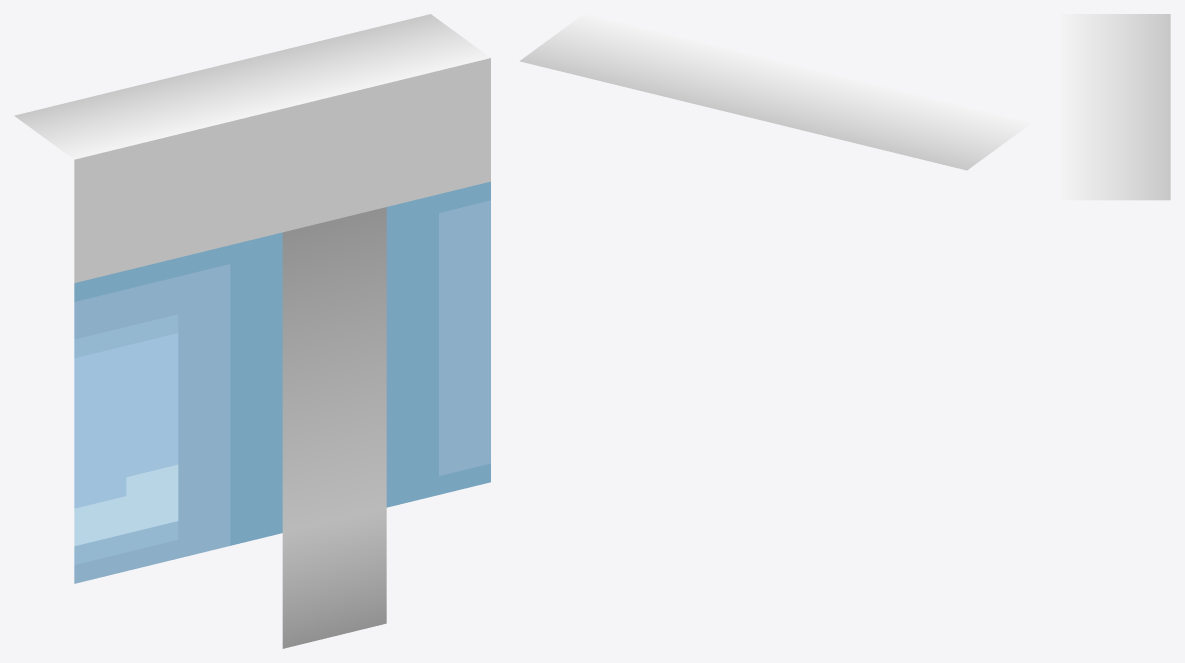
3 views of the same model, side by side, from view 1: azimuth 30°, elevation 25°; view 2: azimuth 150°, elevation 25°; view 3: azimuth 270°, elevation 25° (orthographic). The views are drawn at different scales.
Bounding box in the file's own units: 1 × 1.24 × 0.25.
Materials: 2 (2 with a texture image).
